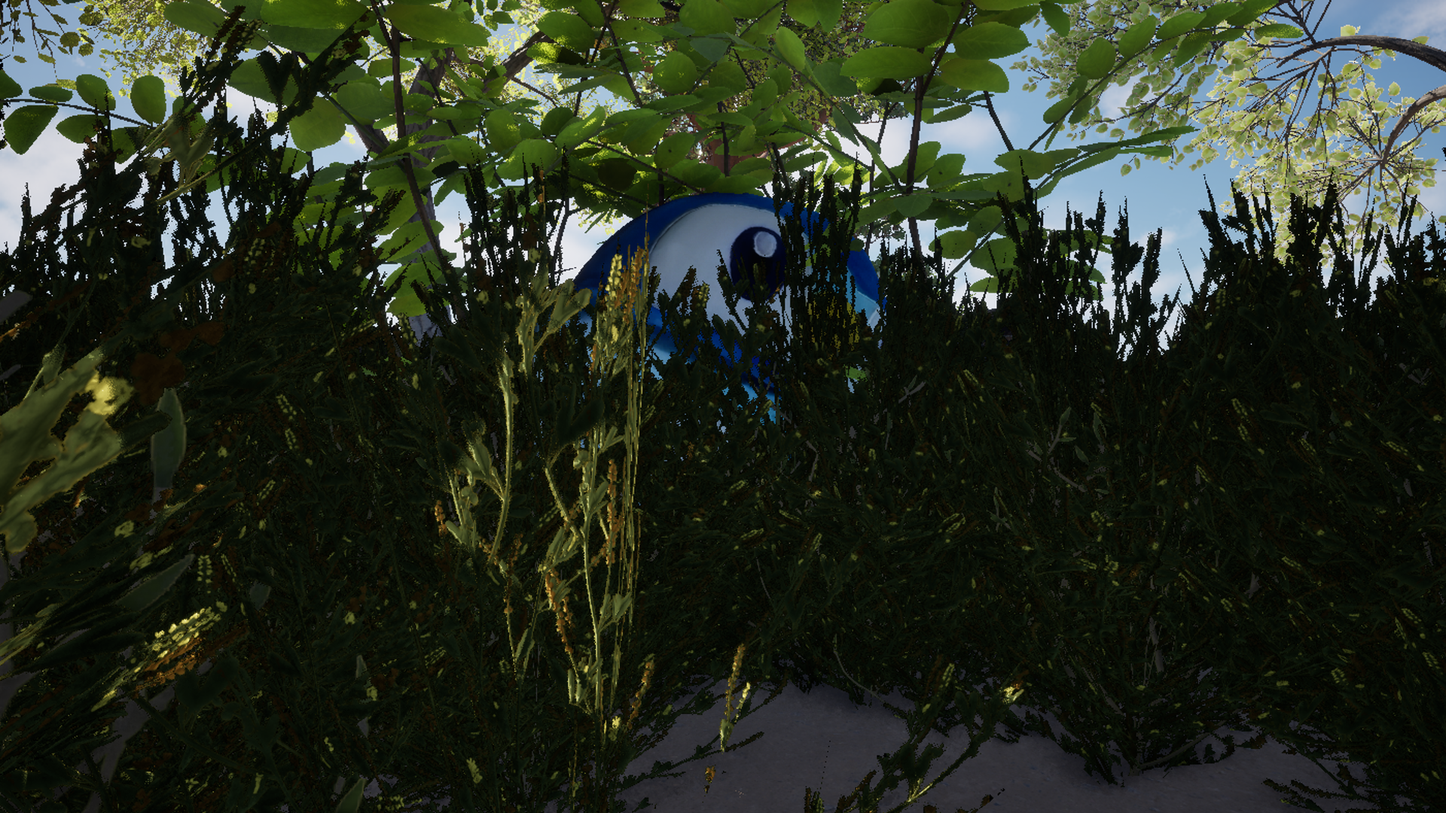Piplup: (417, 0, 1078, 813)
